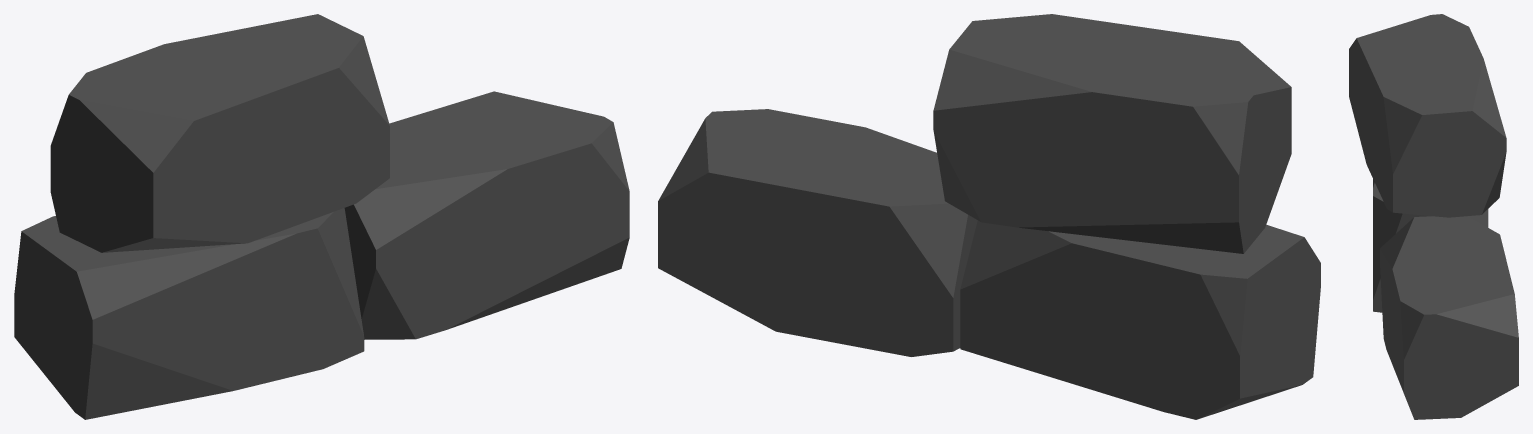
File: Brick_A_11.FBX
The picture shows the model from 3 angles, left to right: view 1: azimuth 30°, elevation 25°; view 2: azimuth 150°, elevation 25°; view 3: azimuth 270°, elevation 25°; orthographic projection. The views are drawn at different scales.
Visible parts, largest first — view 1: Brick_A_11; view 2: Brick_A_11; view 3: Brick_A_11.
Boxes of the visible parts, x1,y1,x2,y2 form: Brick_A_11: (14,14,629,419); Brick_A_11: (658,14,1320,419); Brick_A_11: (1349,14,1518,419).
Bounding box in the file's own units: 4.11 × 2.04 × 1.47.
